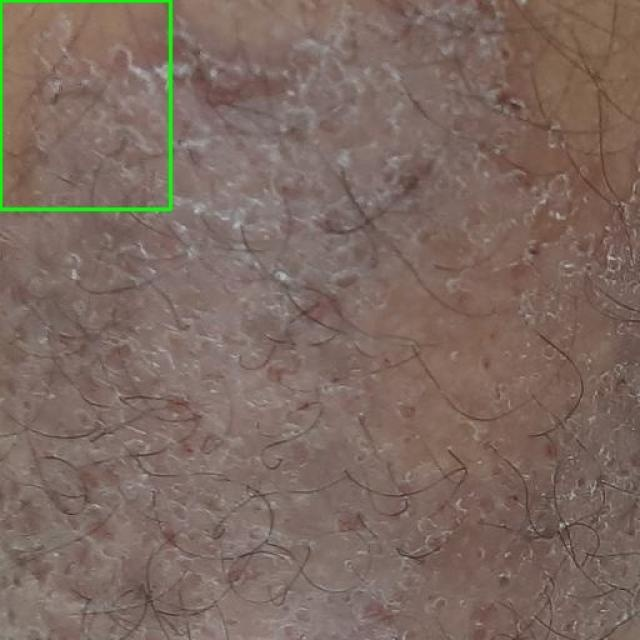Eczema: (0, 0, 170, 209)
